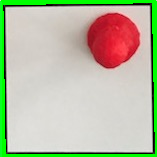Red Pawn: (85, 9, 143, 72)
